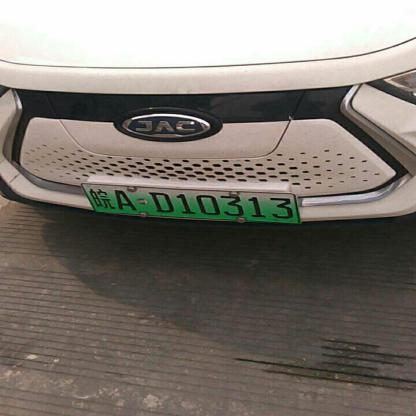lp: (82, 184, 298, 222)
